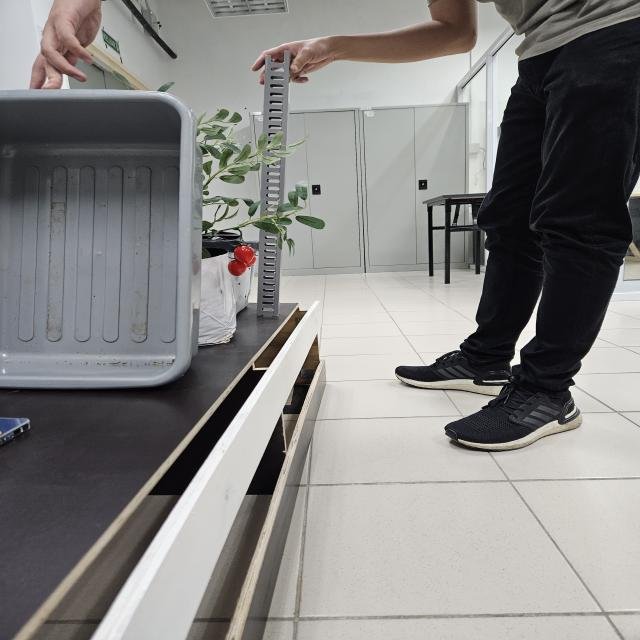Soilbag: (76, 249, 238, 349)
Tomato: (223, 241, 259, 276)
plant: (87, 68, 338, 265)
